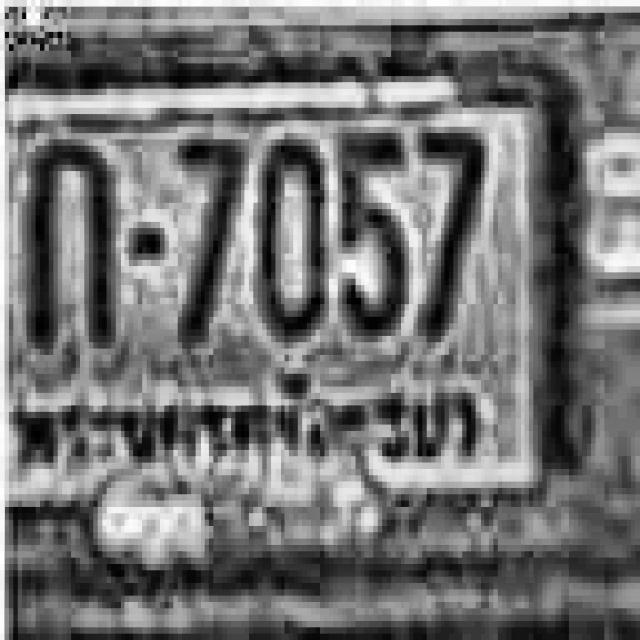license-plate: (0, 60, 580, 578)
